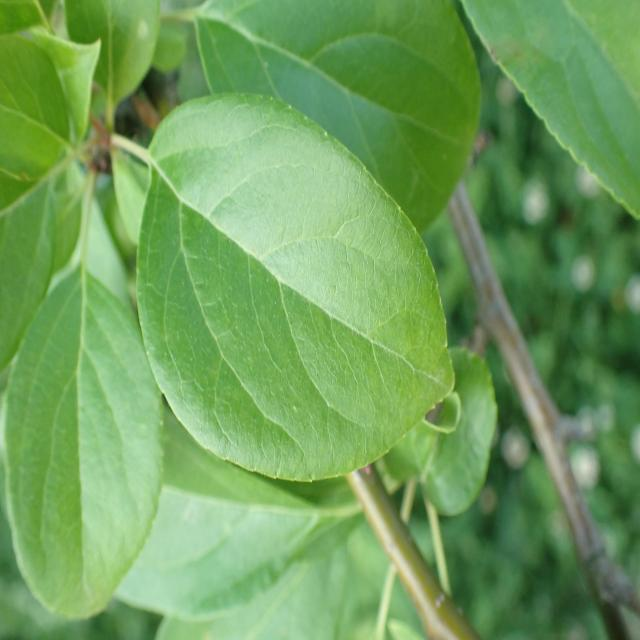healthy: (135, 91, 456, 482), (195, 1, 482, 236), (2, 264, 165, 619), (458, 0, 640, 220)
